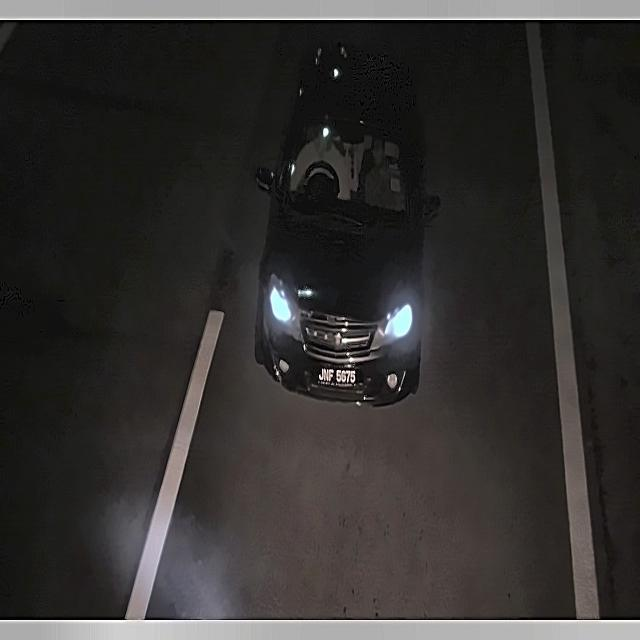car: (310, 358, 364, 392)
